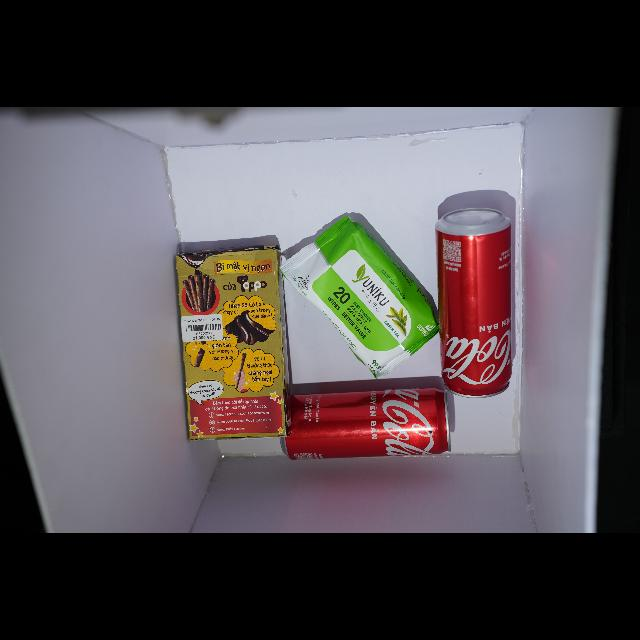banh_toppo_socola: (175, 246, 289, 439)
coca_cola: (436, 208, 514, 397), (283, 388, 449, 459)
khan_giay: (281, 219, 439, 377)
